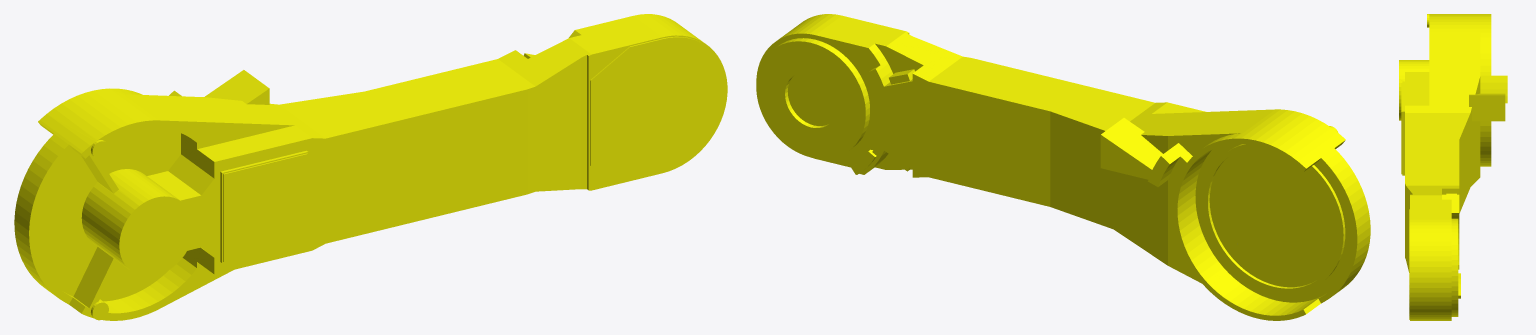
3 views of the same model, side by side, from view 1: azimuth 30°, elevation 25°; view 2: azimuth 150°, elevation 25°; view 3: azimuth 270°, elevation 25° (orthographic). The views are drawn at different scales.
Visible parts, largest first — view 1: node; view 2: node; view 3: node.
Part boxes in pixels (x1,y1,x2,y2): node: (14,14,727,320); node: (756,14,1370,320); node: (1399,14,1507,320).
Size of the model in its own units: 1138 by 316 by 254.
